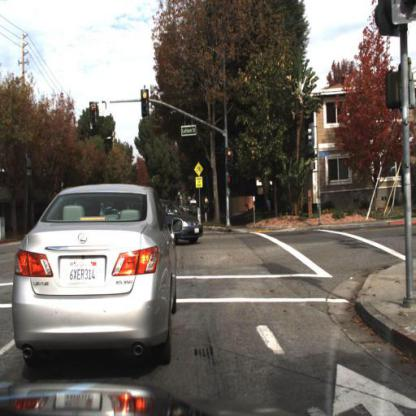car: (12, 186, 176, 362), (165, 198, 206, 245)
trafficLight-Red: (142, 86, 151, 122), (223, 140, 235, 161), (226, 147, 234, 174)
trafficLight-RedLeft: (90, 97, 99, 129)
